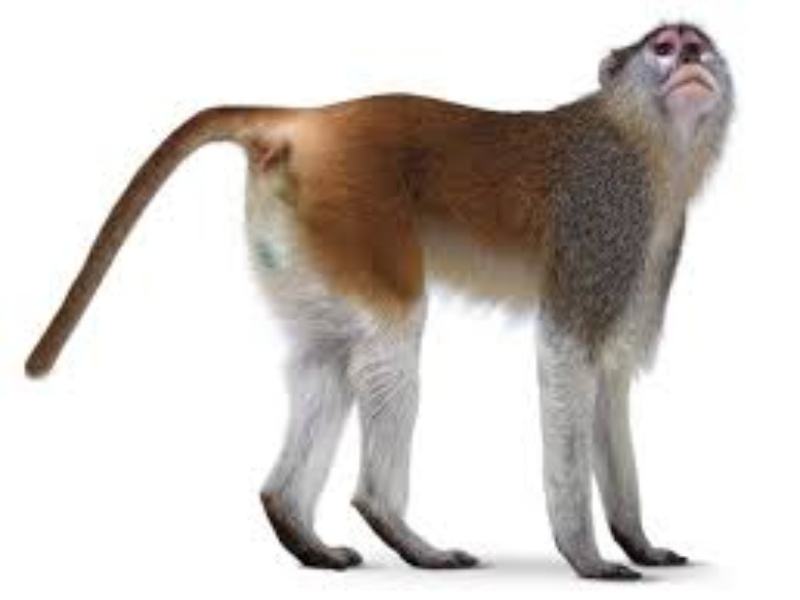monkey: (23, 18, 744, 584)
